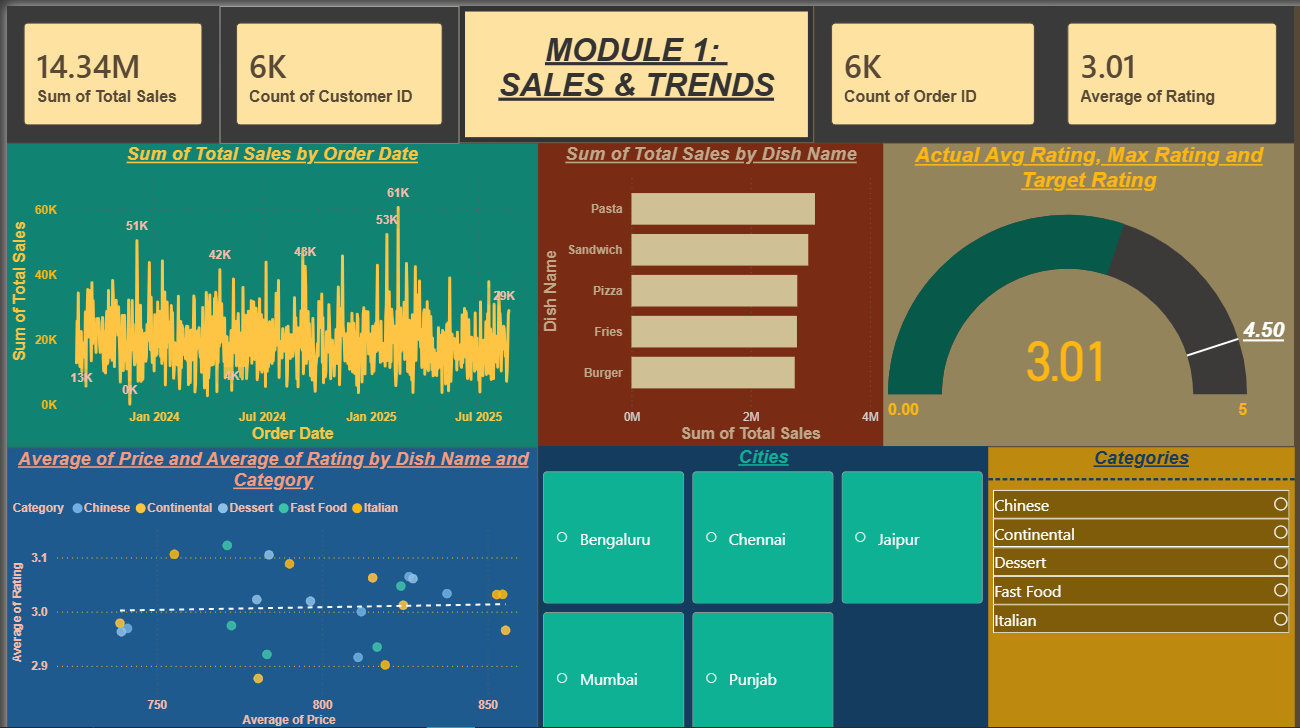

This screenshot's page, from the dashboard's own definition file:
{"tool":"powerbi","page":{"name":"Sales & Trends","canvas":[1344,752],"ordinal":0},"visuals":[{"type":"cardVisual","fields":{"Data":["Sum(Foodpanda Analysis Dataset.Total Sales)"]},"box":[0,0,215,138.8],"z":0},{"type":"cardVisual","fields":{"Data":["CountNonNull(Foodpanda Analysis Dataset.Order ID)"]},"box":[817.5,0,240,138.8],"z":1000},{"type":"cardVisual","fields":{"Data":["Count(Foodpanda Analysis Dataset.Customer ID)"]},"box":[215,0,243.8,138.8],"z":2000},{"type":"lineChart","fields":{"Category":["Foodpanda Analysis Dataset.Order Date"],"Y":["Sum(Foodpanda Analysis Dataset.Total Sales)"]},"box":[0,138.8,537.5,307.5],"z":3000},{"type":"clusteredBarChart","fields":{"Category":["Foodpanda Analysis Dataset.Dish Name"],"Y":["Sum(Foodpanda Analysis Dataset.Total Sales)"]},"box":[537.5,138.8,350,307.5],"z":4000},{"type":"advancedSlicerVisual","title":"Cities","fields":{"Values":["Foodpanda Analysis Dataset.City"]},"box":[537.5,445,456.2,307.5],"z":5000},{"type":"listSlicer","title":"Categories","fields":{"Values":["Foodpanda Analysis Dataset.Category"]},"box":[993.8,446.2,310,288.8],"z":6000},{"type":"textbox","box":[458.8,0,358.8,138.8],"z":7000},{"type":"cardVisual","fields":{"Data":["Avg(Foodpanda Analysis Dataset.Rating)"]},"box":[1057.5,0,246.2,138.8],"z":8000},{"type":"scatterChart","fields":{"Category":["Foodpanda Analysis Dataset.Dish Name"],"Series":["Foodpanda Analysis Dataset.Category"],"X":["Foodpanda Analysis Dataset.Price"],"Y":["Avg(Foodpanda Analysis Dataset.Rating)"]},"box":[0,446.2,537.5,288.8],"z":9000},{"type":"gauge","fields":{"MaxValue":["Foodpanda Analysis Dataset.Max Rating"],"TargetValue":["Foodpanda Analysis Dataset.Target Rating"],"Y":["Foodpanda Analysis Dataset.Actual Avg Rating"]},"box":[887.5,138.8,416.2,306.2],"z":10000}]}

Visuals, with their boxes in screenshot pixels (x1, y1, x2, y2), scaled from the page's 1344x752 canvas onto the 1300x728 screenshot:
cardVisual - Sum(Foodpanda Analysis Dataset.Total Sales): rect(0, 0, 208, 134)
cardVisual - CountNonNull(Foodpanda Analysis Dataset.Order ID): rect(791, 0, 1023, 134)
cardVisual - Count(Foodpanda Analysis Dataset.Customer ID): rect(208, 0, 444, 134)
lineChart - Foodpanda Analysis Dataset.Order Date x Sum(Foodpanda Analysis Dataset.Total Sales): rect(0, 134, 520, 432)
clusteredBarChart - Foodpanda Analysis Dataset.Dish Name x Sum(Foodpanda Analysis Dataset.Total Sales): rect(520, 134, 858, 432)
"Cities" advancedSlicerVisual: rect(520, 431, 961, 727)
"Categories" listSlicer: rect(961, 432, 1261, 712)
textbox: rect(444, 0, 791, 134)
cardVisual - Avg(Foodpanda Analysis Dataset.Rating): rect(1023, 0, 1261, 134)
scatterChart - Foodpanda Analysis Dataset.Dish Name x Foodpanda Analysis Dataset.Category: rect(0, 432, 520, 712)
gauge - Foodpanda Analysis Dataset.Max Rating x Foodpanda Analysis Dataset.Target Rating: rect(858, 134, 1261, 431)
